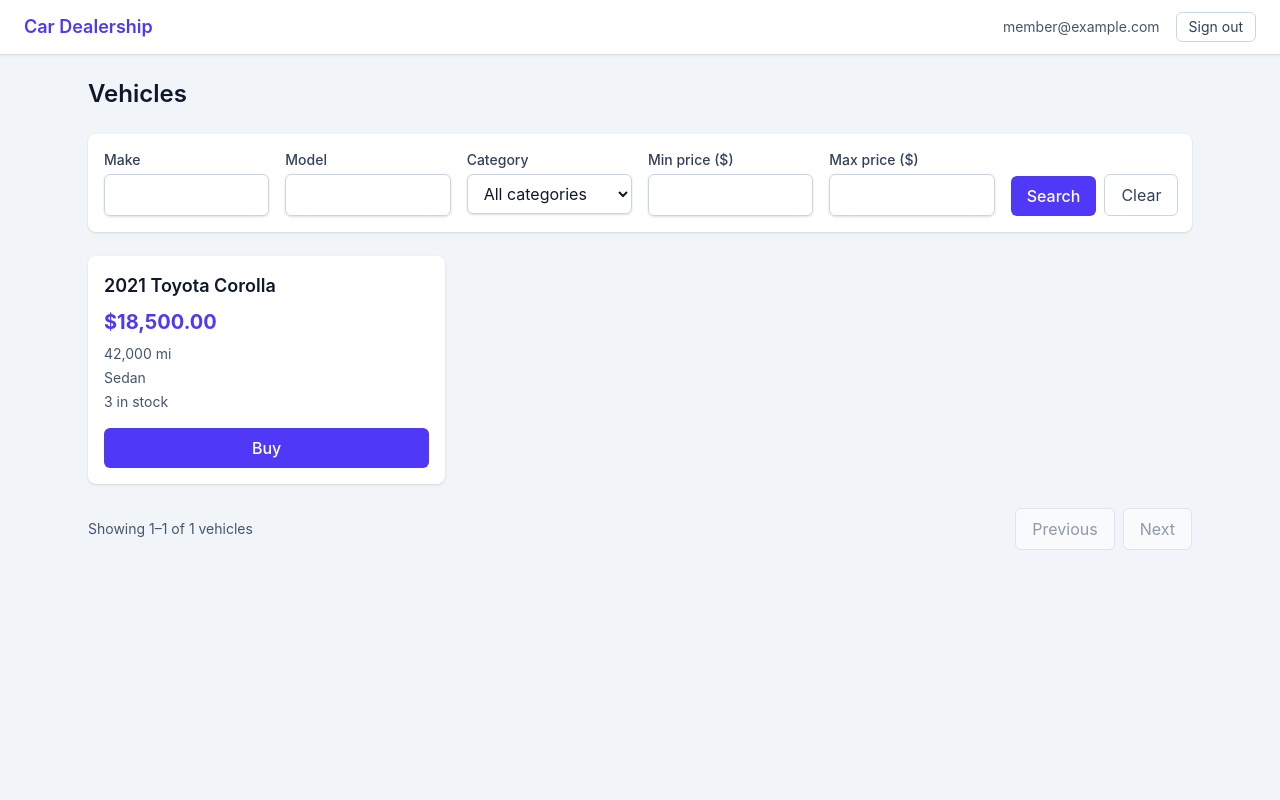
Test: DashboardPage search › runs the search again when Search is pressed with the same filters, to pick up changes made by others
Expected: the list item "3 in stock" is shown, [104,393,168,410]
What coordinates should you click on to do the following:
click the button "Search"
I would click on:
 (1054, 196)
Its box is [1011,176,1096,216].
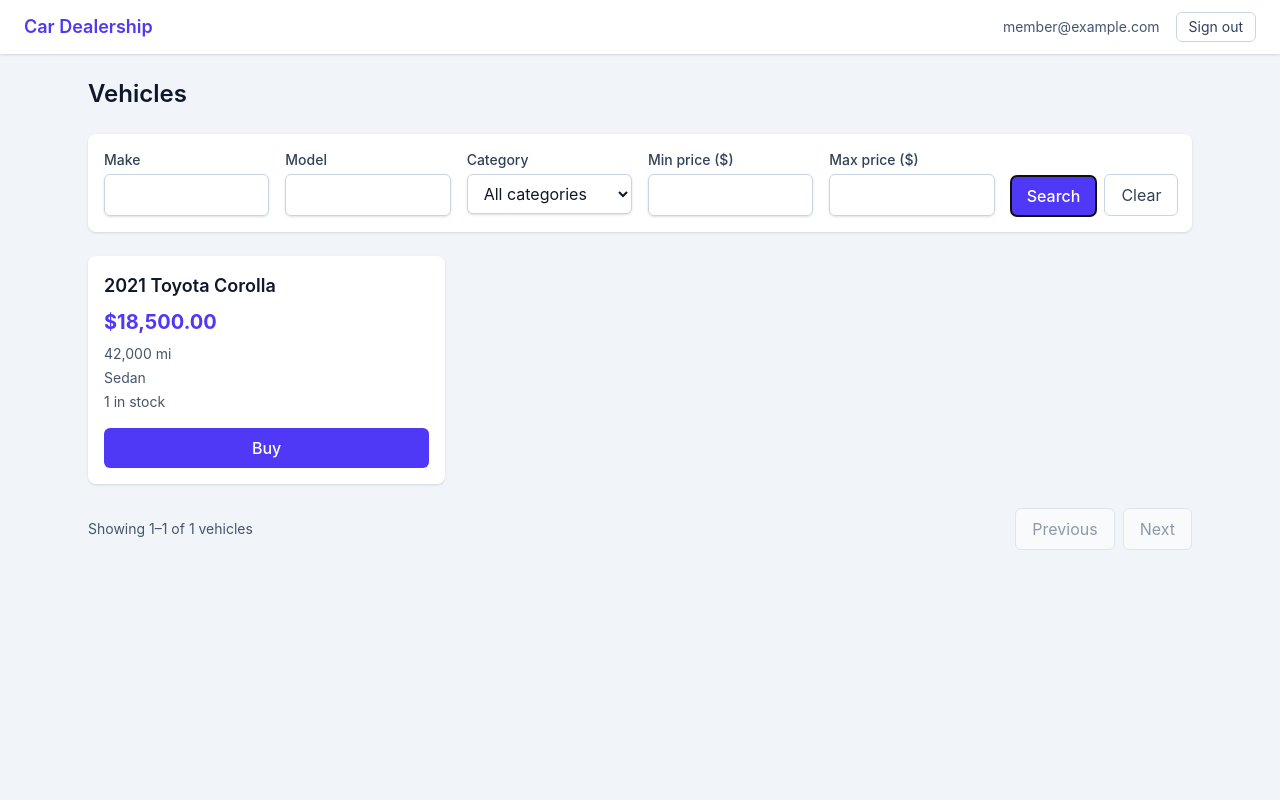
Now the list item "1 in stock" is shown, box [104,393,165,410]
